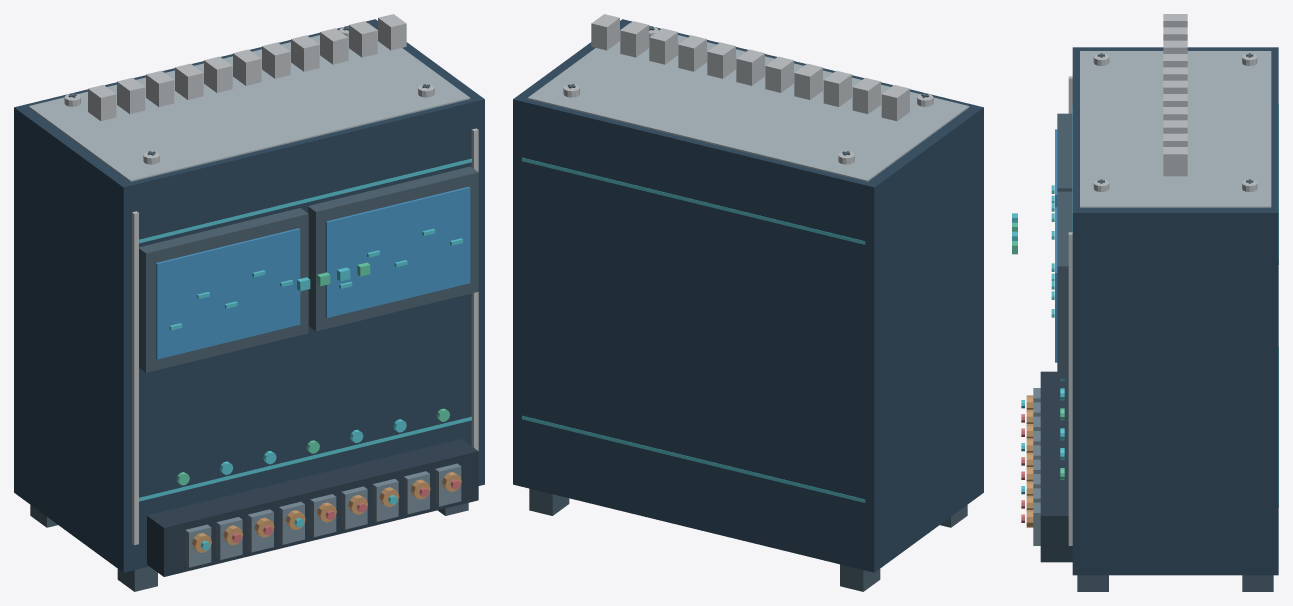
The model's file is 60_L79_HybridBondingPLCRack.glb.
The picture shows the model from 3 angles, left to right: view 1: azimuth 30°, elevation 25°; view 2: azimuth 150°, elevation 25°; view 3: azimuth 270°, elevation 25°; orthographic projection. The views are drawn at different scales.
Parts seen in each view (by area): view 1: HybridBondingPLCRack_Node_0000, HybridBondingPLCRack_Node_0007, HybridBondingPLCRack_Node_0025, HybridBondingPLCRack_Node_0032, HybridBondingPLCRack_Node_0049, HybridBondingPLCRack_Node_0031, HybridBondingPLCRack_Node_0024, HybridBondingPLCRack_Node_0005, HybridBondingPLCRack_Node_0006, HybridBondingPLCRack_Node_0023, HybridBondingPLCRack_Node_0021, HybridBondingPLCRack_Node_0087 (+20 smaller); view 2: HybridBondingPLCRack_Node_0000, HybridBondingPLCRack_Node_0007, HybridBondingPLCRack_Node_0020, HybridBondingPLCRack_Node_0022, HybridBondingPLCRack_Node_0087, HybridBondingPLCRack_Node_0077, HybridBondingPLCRack_Node_0084, HybridBondingPLCRack_Node_0086, HybridBondingPLCRack_Node_0080, HybridBondingPLCRack_Node_0081, HybridBondingPLCRack_Node_0083, HybridBondingPLCRack_Node_0078 (+5 smaller); view 3: HybridBondingPLCRack_Node_0000, HybridBondingPLCRack_Node_0007, HybridBondingPLCRack_Node_0049, HybridBondingPLCRack_Node_0031, HybridBondingPLCRack_Node_0006, HybridBondingPLCRack_Node_0024, HybridBondingPLCRack_Node_0087, HybridBondingPLCRack_Node_0047, HybridBondingPLCRack_Node_0048, HybridBondingPLCRack_Node_0032.
Part boxes in pixels (x1=…): HybridBondingPLCRack_Node_0000: x1=14, y1=19, x2=484, y2=572; HybridBondingPLCRack_Node_0007: x1=28, y1=23, x2=470, y2=181; HybridBondingPLCRack_Node_0025: x1=156, y1=228, x2=300, y2=359; HybridBondingPLCRack_Node_0032: x1=325, y1=186, x2=470, y2=317; HybridBondingPLCRack_Node_0049: x1=147, y1=439, x2=478, y2=576; HybridBondingPLCRack_Node_0031: x1=308, y1=166, x2=478, y2=331; HybridBondingPLCRack_Node_0024: x1=139, y1=208, x2=308, y2=372; HybridBondingPLCRack_Node_0005: x1=132, y1=211, x2=138, y2=545; HybridBondingPLCRack_Node_0006: x1=471, y1=128, x2=478, y2=450; HybridBondingPLCRack_Node_0023: x1=139, y1=158, x2=471, y2=243; HybridBondingPLCRack_Node_0021: x1=139, y1=416, x2=471, y2=501; HybridBondingPLCRack_Node_0087: x1=378, y1=14, x2=406, y2=50; HybridBondingPLCRack_Node_0000: x1=513, y1=19, x2=983, y2=572; HybridBondingPLCRack_Node_0007: x1=527, y1=23, x2=969, y2=181; HybridBondingPLCRack_Node_0020: x1=522, y1=415, x2=865, y2=502; HybridBondingPLCRack_Node_0022: x1=522, y1=157, x2=865, y2=244; HybridBondingPLCRack_Node_0087: x1=591, y1=14, x2=619, y2=50; HybridBondingPLCRack_Node_0077: x1=881, y1=85, x2=909, y2=121; HybridBondingPLCRack_Node_0084: x1=678, y1=35, x2=706, y2=71; HybridBondingPLCRack_Node_0086: x1=620, y1=21, x2=648, y2=57; HybridBondingPLCRack_Node_0080: x1=794, y1=63, x2=822, y2=99; HybridBondingPLCRack_Node_0081: x1=765, y1=56, x2=793, y2=92; HybridBondingPLCRack_Node_0083: x1=707, y1=42, x2=735, y2=78; HybridBondingPLCRack_Node_0078: x1=852, y1=77, x2=880, y2=113; HybridBondingPLCRack_Node_0000: x1=1072, y1=47, x2=1278, y2=575; HybridBondingPLCRack_Node_0007: x1=1080, y1=51, x2=1271, y2=207; HybridBondingPLCRack_Node_0049: x1=1040, y1=371, x2=1072, y2=562; HybridBondingPLCRack_Node_0031: x1=1057, y1=191, x2=1072, y2=378; HybridBondingPLCRack_Node_0006: x1=1068, y1=232, x2=1072, y2=545; HybridBondingPLCRack_Node_0024: x1=1057, y1=113, x2=1072, y2=191; HybridBondingPLCRack_Node_0087: x1=1163, y1=147, x2=1187, y2=176; HybridBondingPLCRack_Node_0047: x1=1242, y1=575, x2=1273, y2=591; HybridBondingPLCRack_Node_0048: x1=1077, y1=575, x2=1108, y2=591; HybridBondingPLCRack_Node_0032: x1=1055, y1=207, x2=1057, y2=362.
Size of the model in its own units: 1.62 by 1.96 by 1.1.
